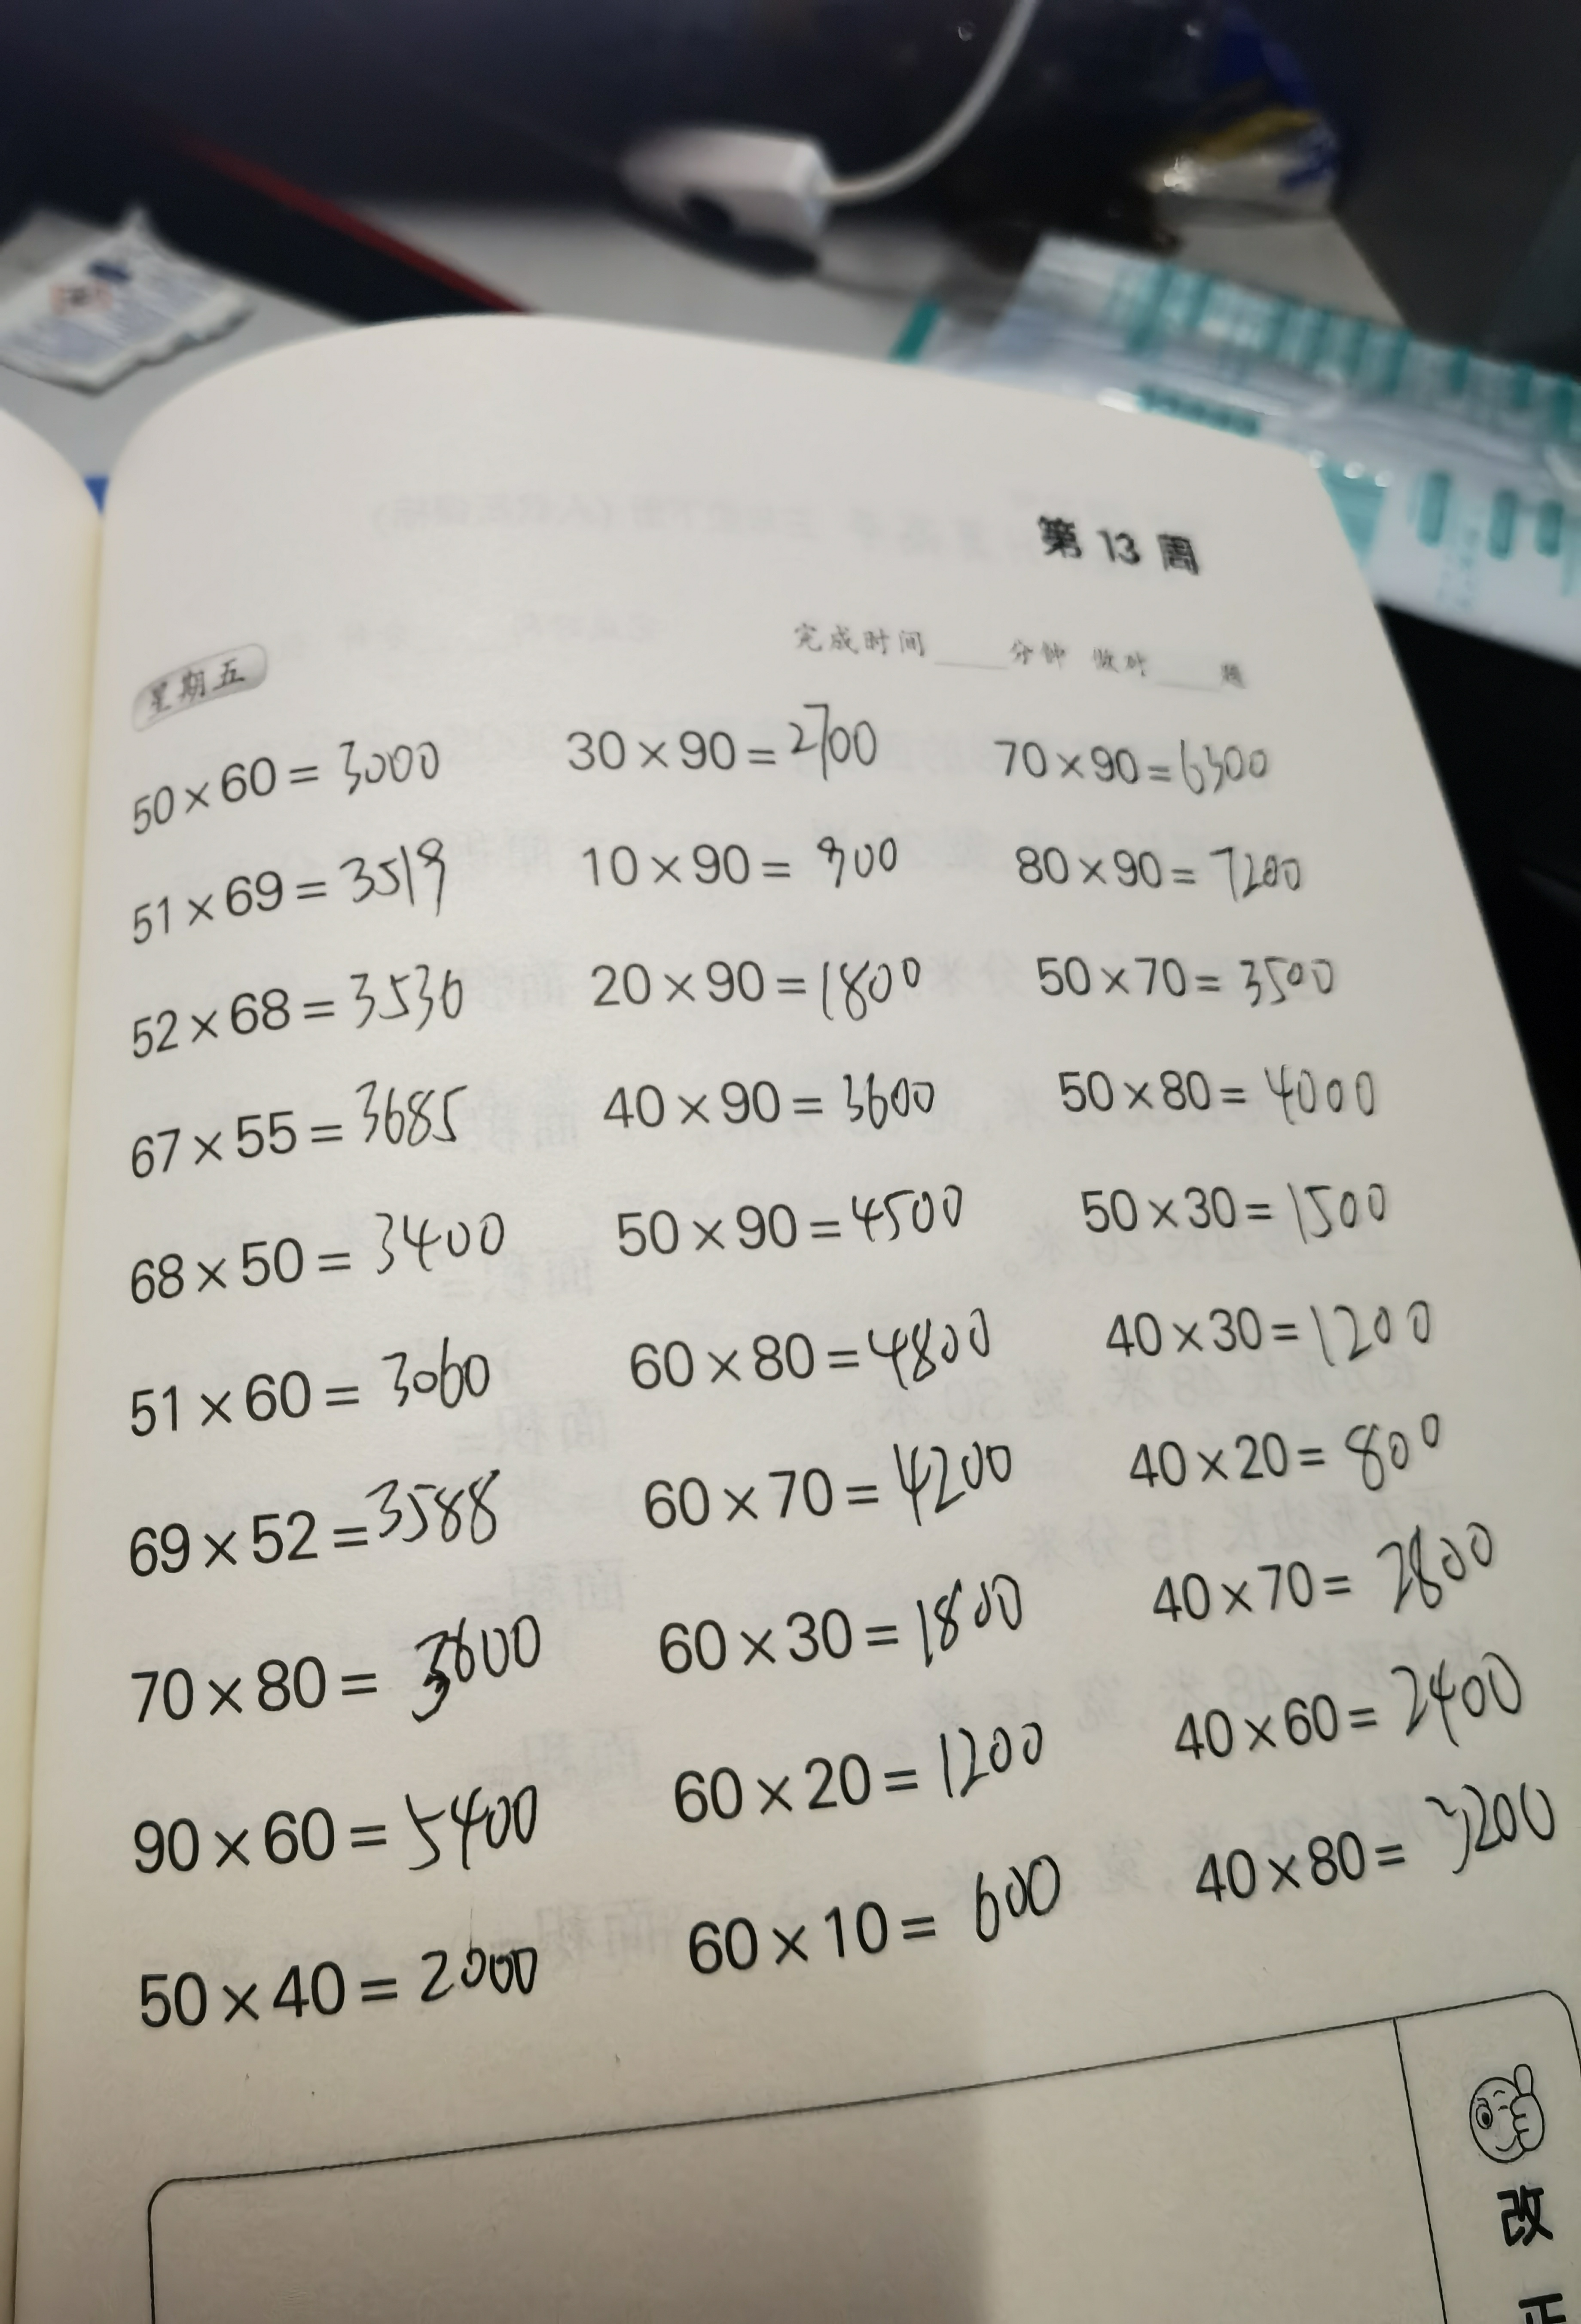equation: (79, 1922, 572, 2047), (79, 1599, 528, 1733), (635, 1849, 1090, 1975), (104, 1770, 570, 1892), (642, 1719, 1082, 1848), (1161, 1768, 1576, 1900), (641, 1553, 1083, 1675), (111, 1186, 535, 1309), (531, 663, 895, 805), (86, 715, 485, 838), (1135, 1643, 1556, 1759), (94, 1473, 547, 1581), (85, 949, 498, 1064), (101, 1078, 503, 1195), (605, 1290, 1032, 1392), (582, 1046, 979, 1154), (1136, 1518, 1519, 1627), (108, 833, 503, 933), (626, 1435, 1048, 1526), (972, 708, 1330, 813), (1110, 1398, 1479, 1498), (113, 1338, 524, 1428), (582, 932, 956, 1031), (596, 1165, 997, 1256), (1038, 1161, 1427, 1255), (563, 810, 935, 905), (1075, 1286, 1457, 1376), (1025, 925, 1380, 1022), (1043, 1045, 1408, 1131), (993, 824, 1355, 911)
